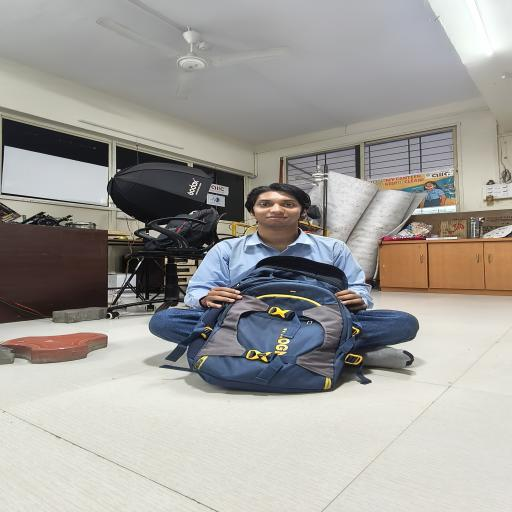survivor: (148, 183, 420, 368)
